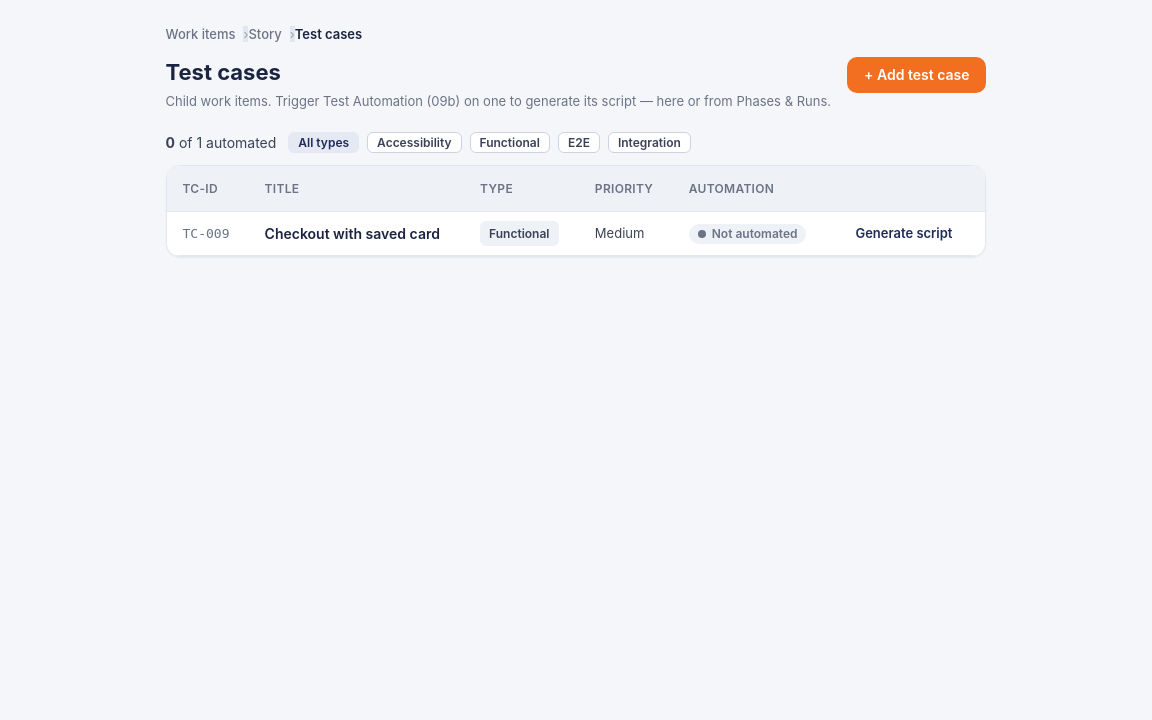
it: script generation › refreshes the row when generation is started
Click the button "Generate script".
click(904, 234)  # box [844,220,964,247]
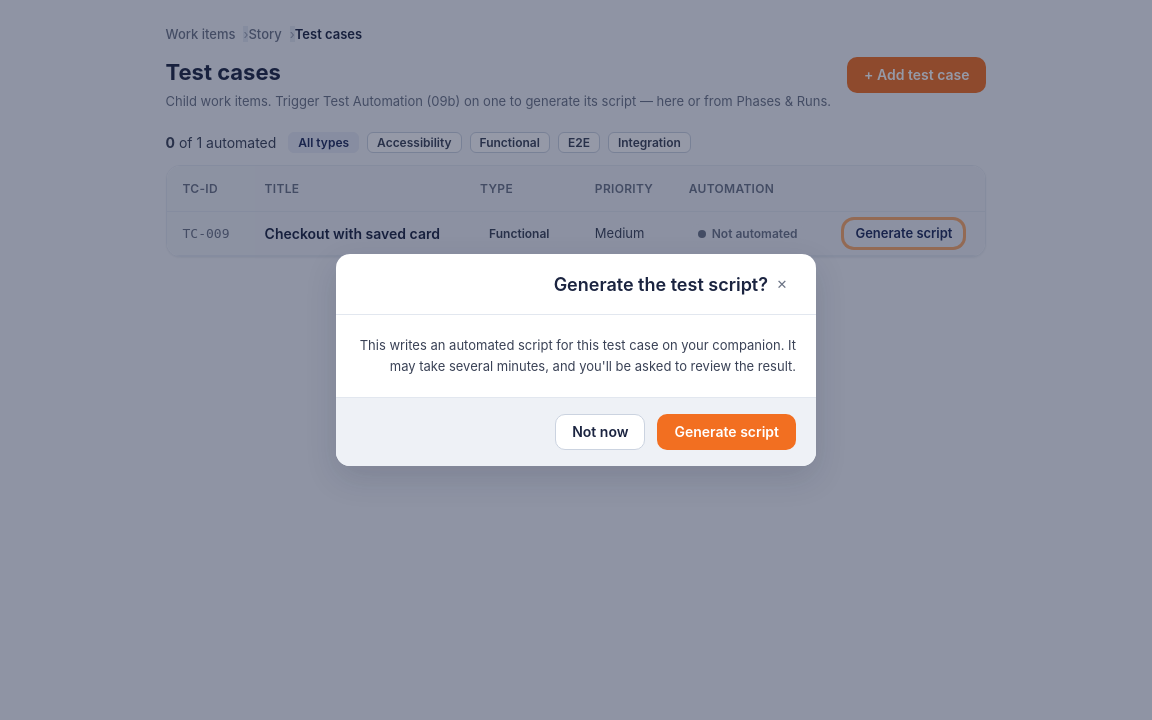
Click the button "Generate script" below "Generate the test script?".
click(727, 432)  # box [658,414,796,450]
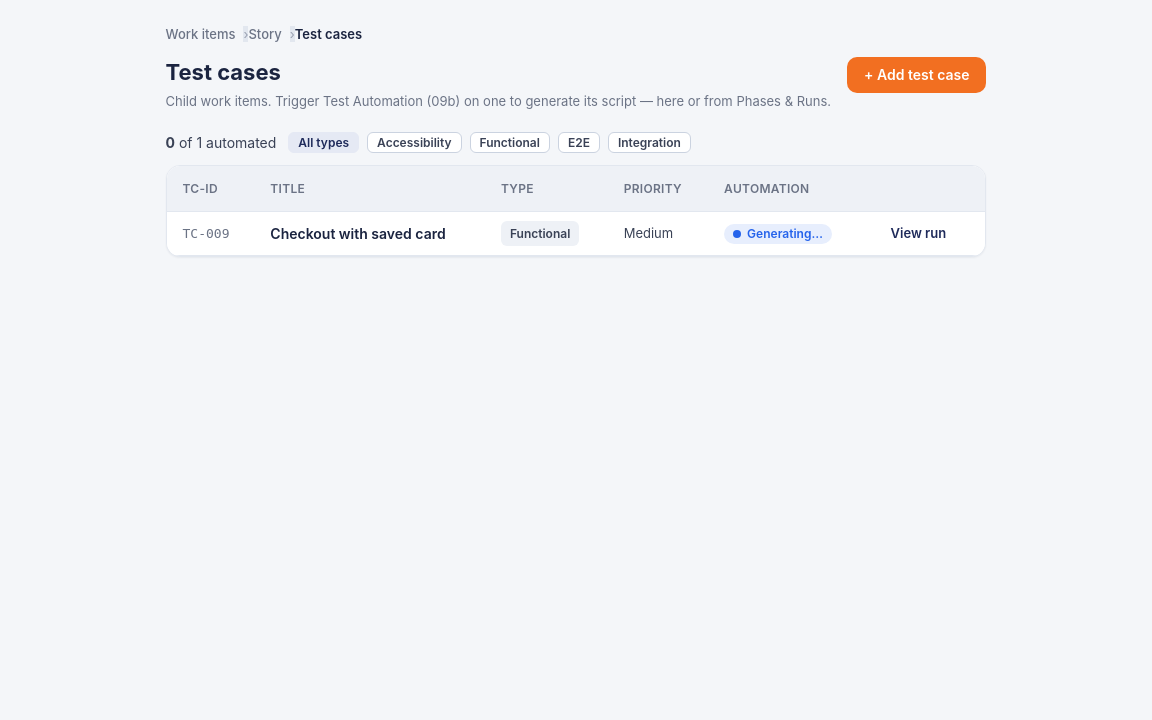
Check: the text "Generating…" is shown, box [724,224,832,244]
